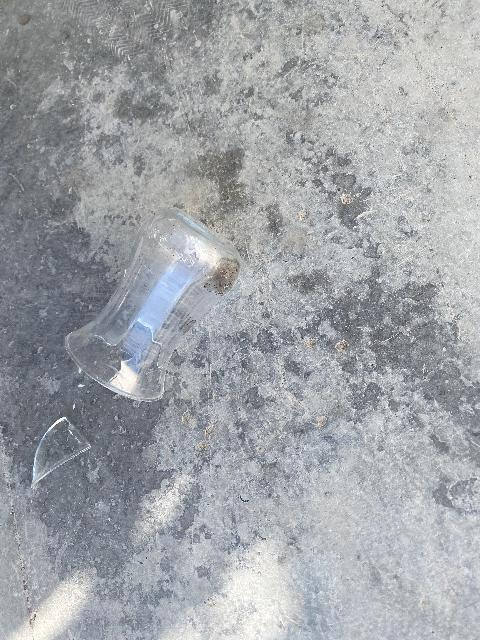Cam: (70, 205, 251, 414), (25, 417, 100, 483)
